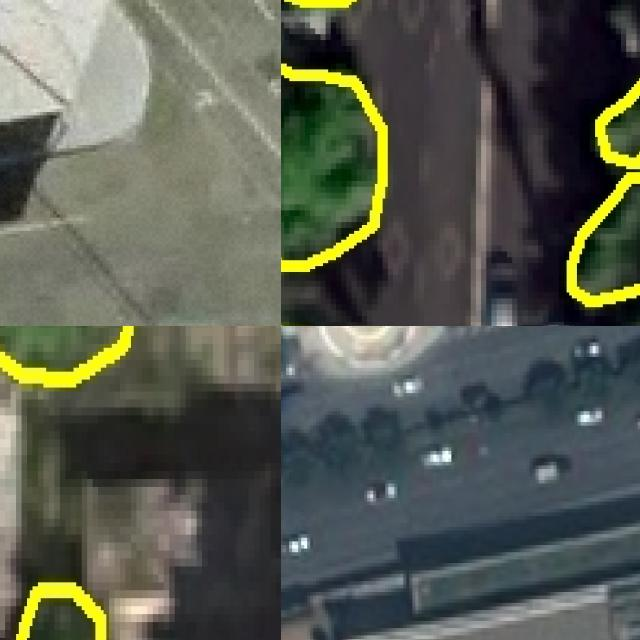trees: (282, 67, 384, 267), (570, 173, 640, 302), (1, 327, 129, 381), (20, 587, 102, 640), (599, 82, 640, 164)
